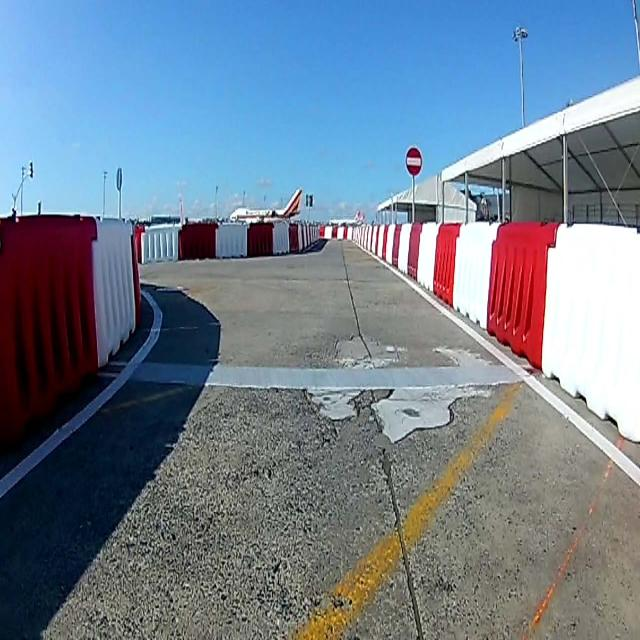girisyok: (406, 143, 424, 177)
